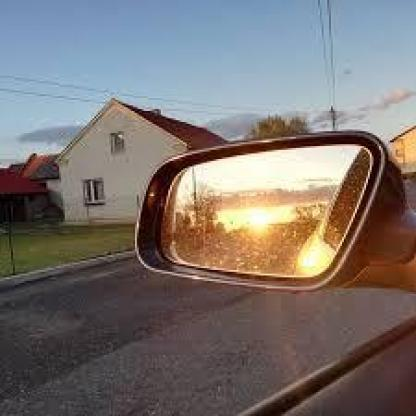other: (233, 203, 292, 234), (296, 238, 324, 275)
